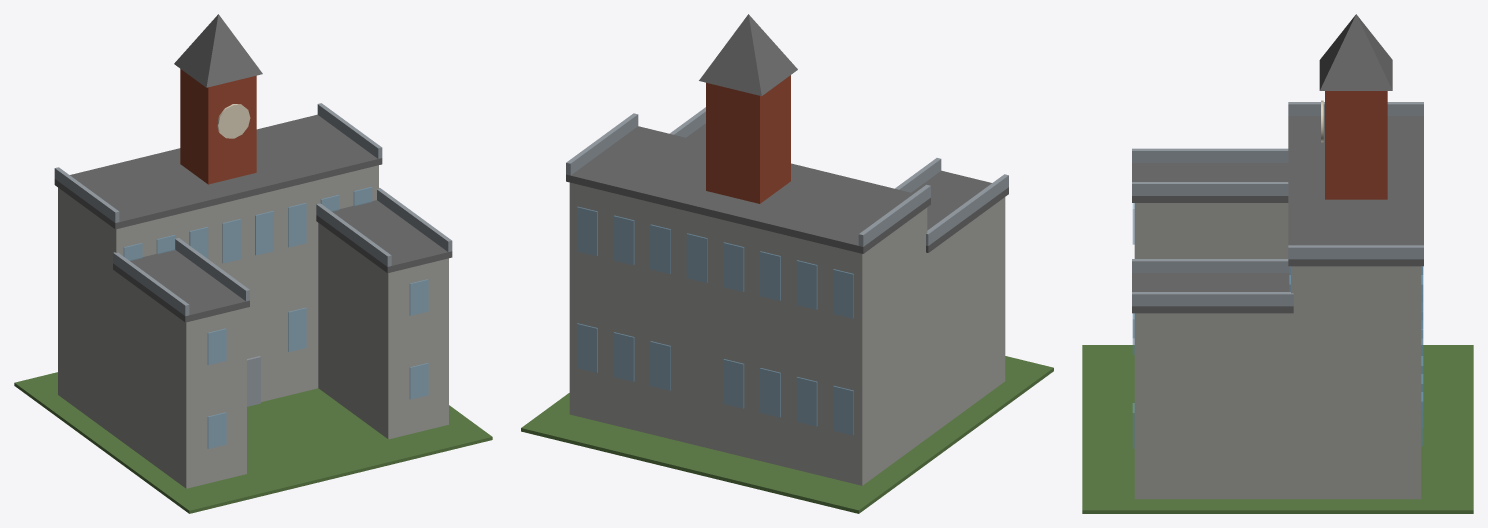
The model's file is bld_special_university_a06.glb.
The picture shows the model from 3 angles, left to right: view 1: azimuth 30°, elevation 25°; view 2: azimuth 150°, elevation 25°; view 3: azimuth 270°, elevation 25°; orthographic projection. The views are drawn at different scales.
Visible parts, largest first — view 1: body; view 2: body; view 3: body.
Part boxes in pixels (x1,y1,x2,y2): body: (14,14,492,513); body: (521,14,1053,513); body: (1082,14,1473,513).
Size of what is drawn, in the model's own units: 15 by 17.65 by 15.
